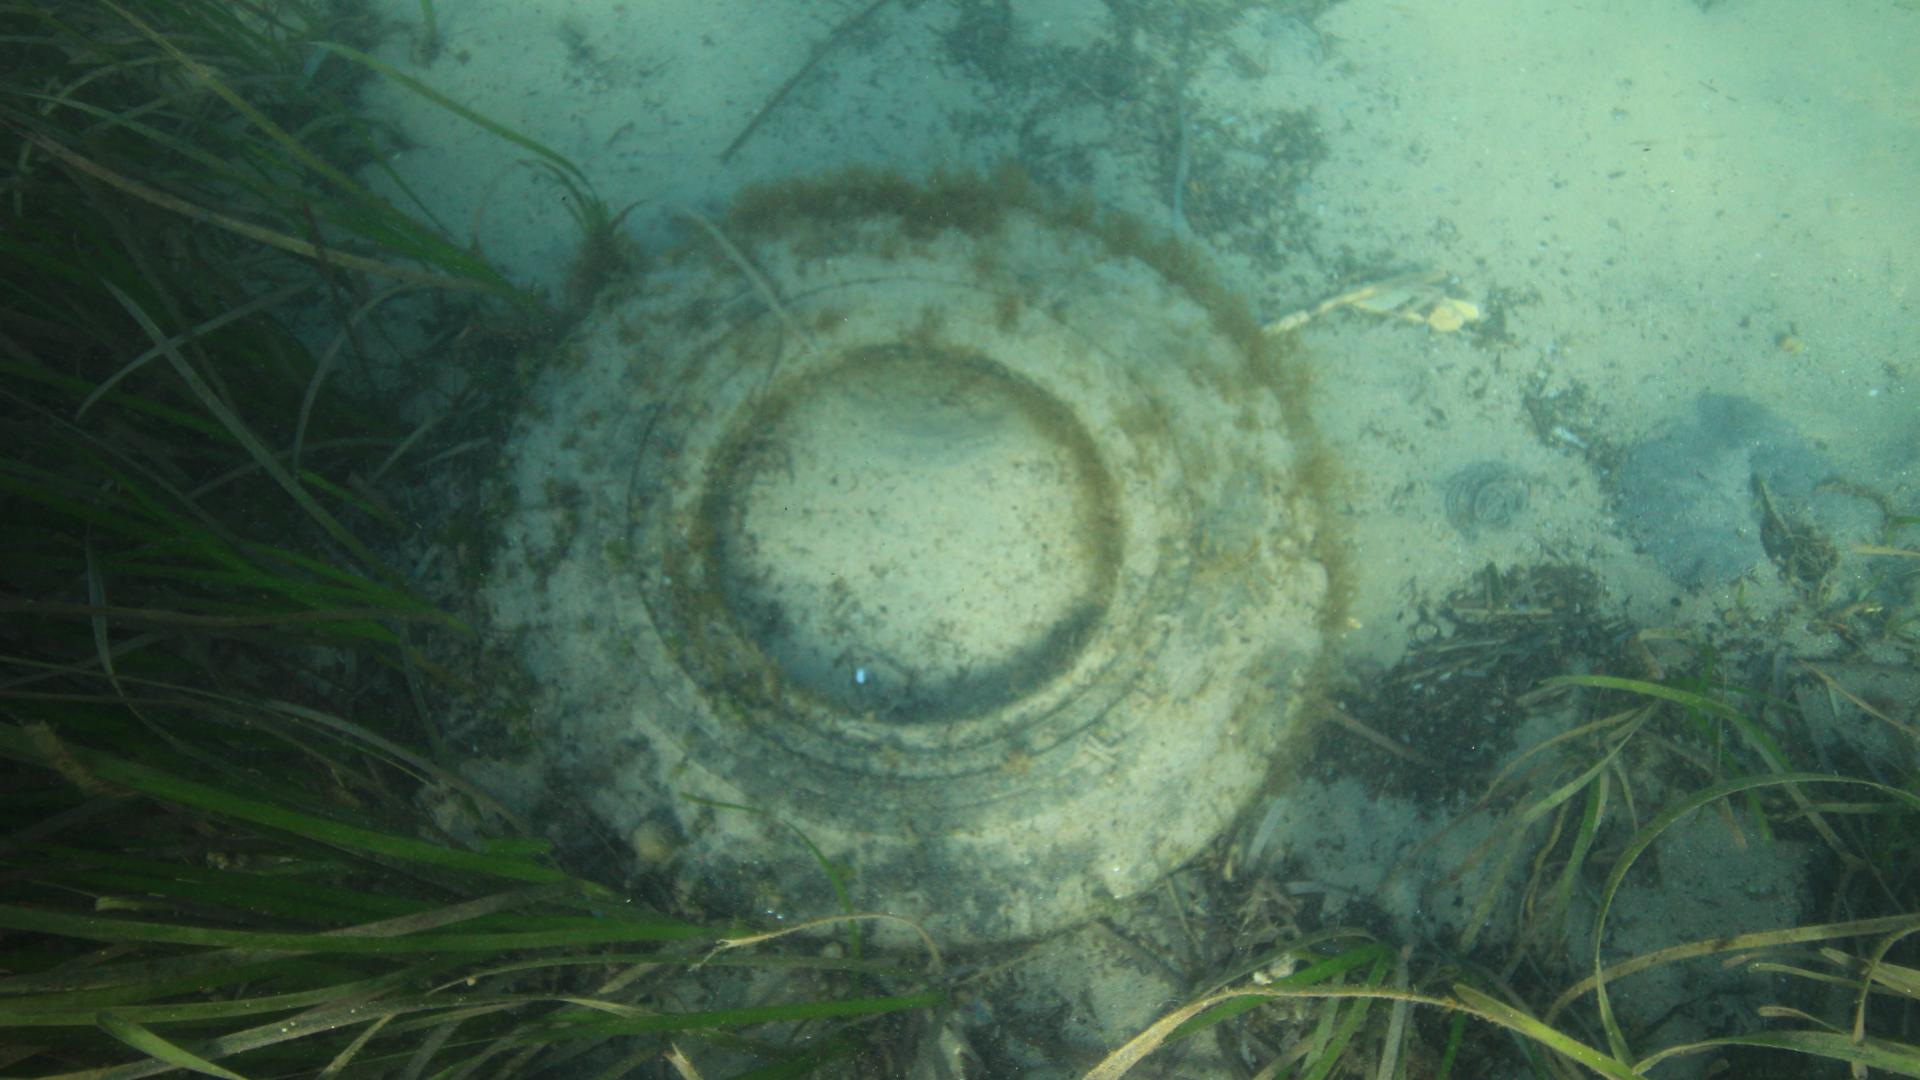tire: (469, 195, 1325, 952)
